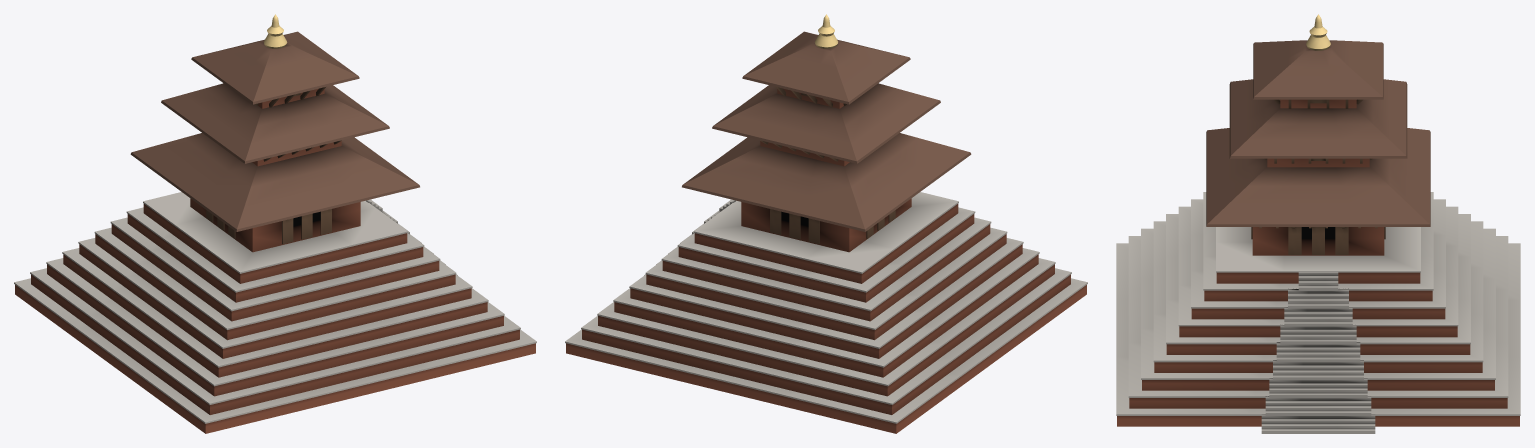
The model's file is maju-dega.glb.
3 renders of one model, left to right at view 1: azimuth 30°, elevation 25°; view 2: azimuth 150°, elevation 25°; view 3: azimuth 270°, elevation 25°, orthographic. The views are drawn at different scales.
Parts seen in each view (by area): view 1: model-brick, model-tile, model-wood; view 2: model-brick, model-tile, model-wood; view 3: model-brick, model-tile, model-wood, model-gold.
Part boxes in pixels (x1,y1,x2,y2): model-brick: (14,88,536,433); model-tile: (130,31,419,231); model-wood: (206,87,341,244); model-brick: (565,88,1087,433); model-tile: (682,31,971,231); model-wood: (760,87,895,244); model-brick: (1116,99,1520,433); model-tile: (1206,40,1430,226); model-wood: (1251,99,1385,254); model-gold: (1306,14,1330,50).
Bounding box in the file's own units: 28.75 × 24.65 × 27.6.
4 materials, 4 textured.
